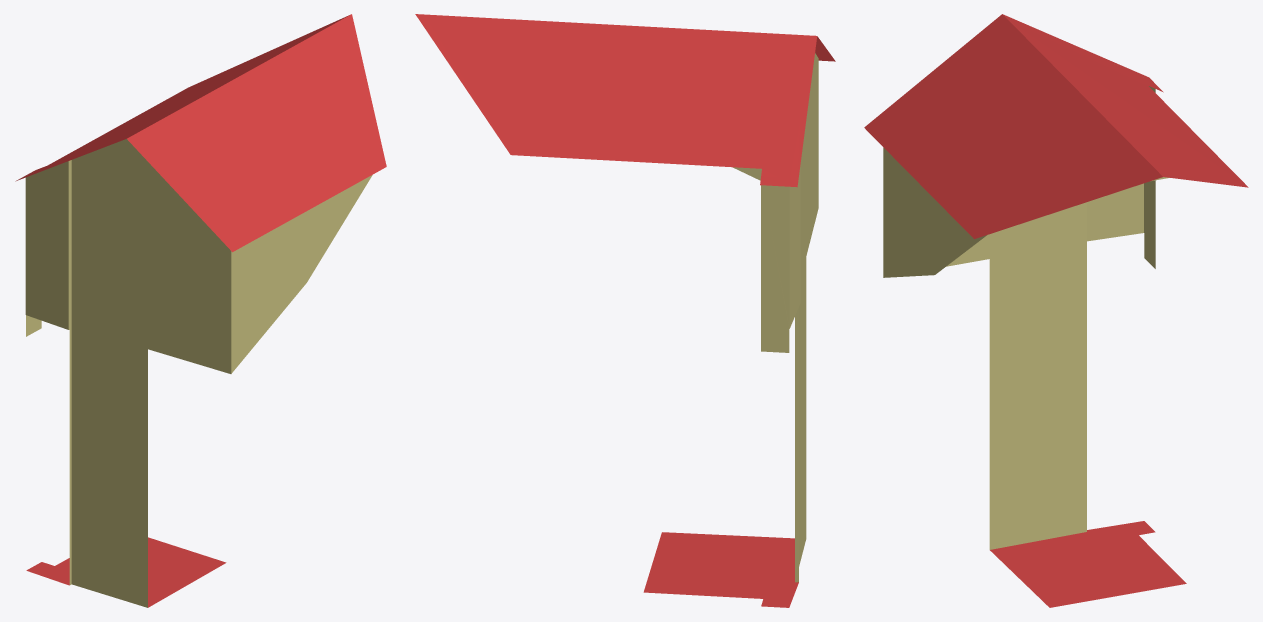
3 renders of one model, left to right at view 1: azimuth 30°, elevation 25°; view 2: azimuth 150°, elevation 25°; view 3: azimuth 270°, elevation 25°, orthographic. The views are drawn at different scales.
Size of the model in its own units: 12.05 by 10.37 by 15.68.
